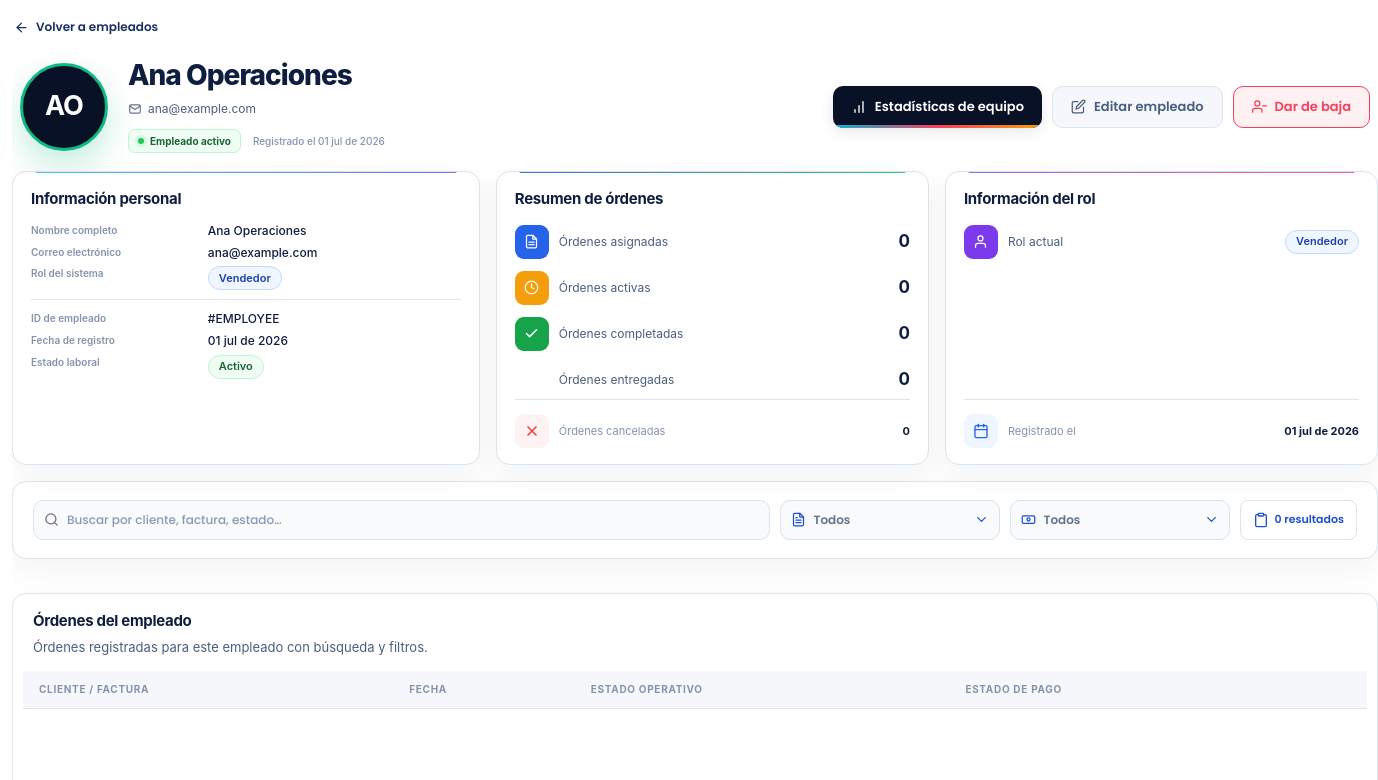
Scenario: AdminEmployeeTeamModule › renders retry state when the team endpoint fails
Click the button with aria-label "Abrir estadísticas de equipo". click: coordinates (937, 107)
box: [833,86,1042,128]
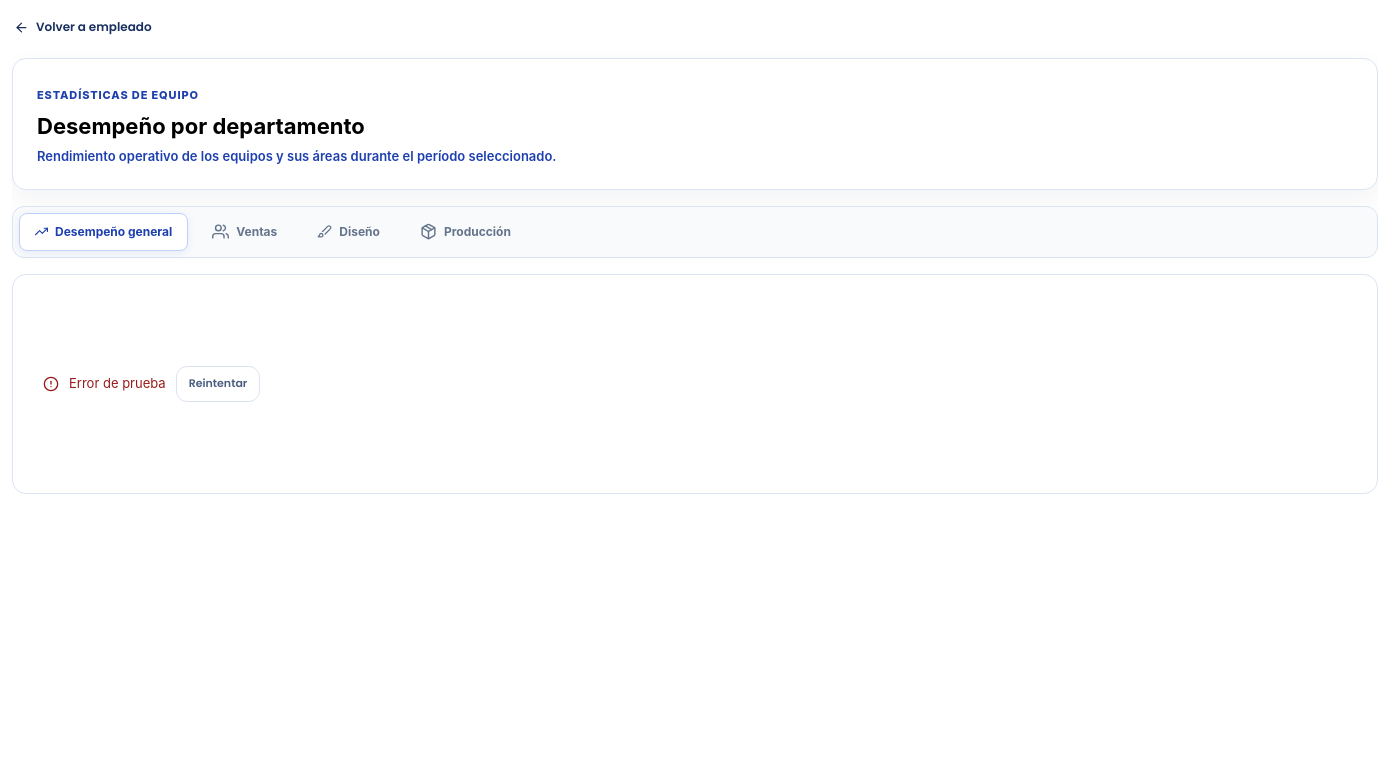
expect the text "Error de prueba" is shown: met, box [69,374,166,393]
expect the button "Reintentar" is shown: met, box [176,366,260,402]
